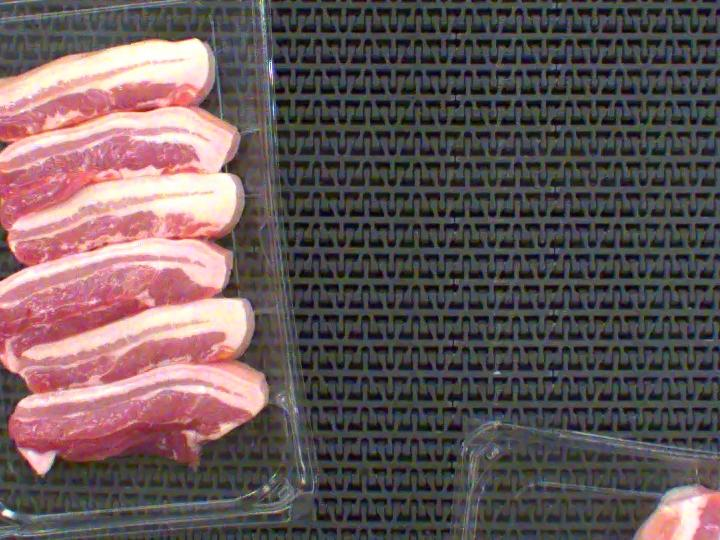packaging-error: (650, 445, 720, 537)
